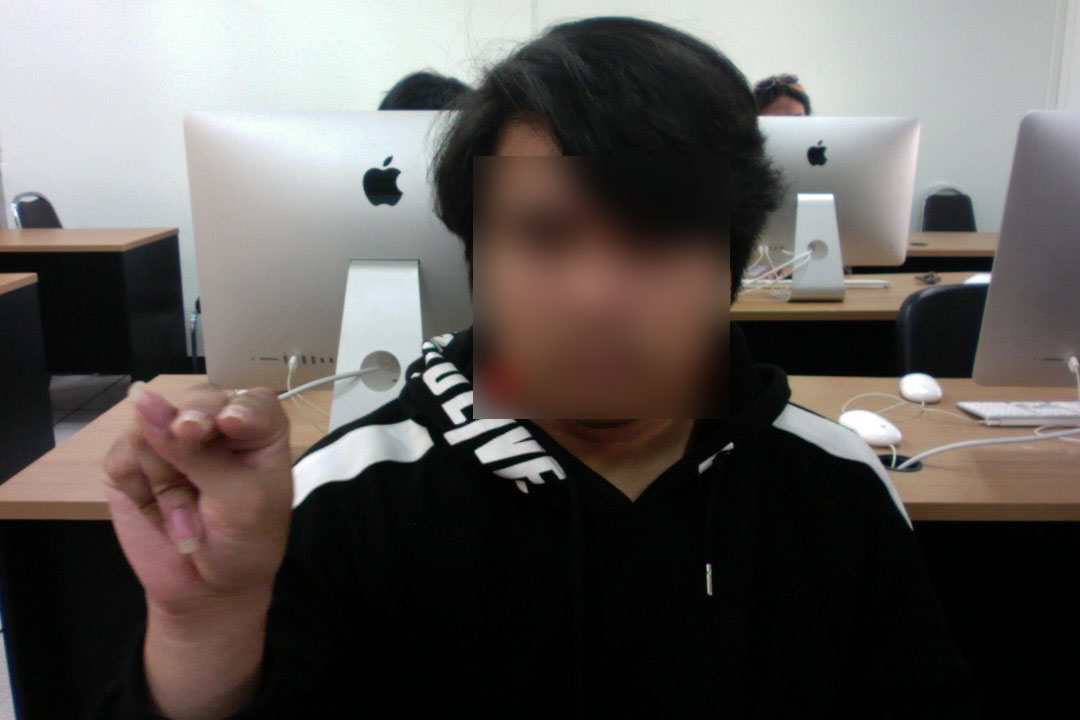nor: (88, 367, 308, 621)
